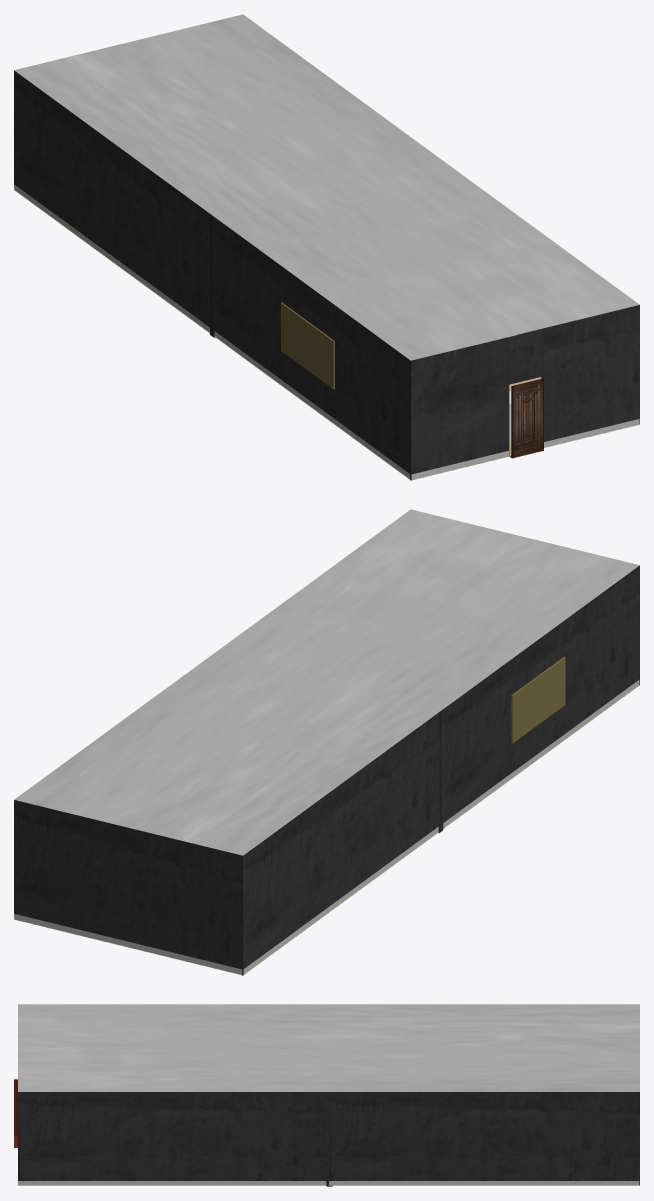
The picture shows the model from 3 angles, top to bottom: view 1: azimuth 30°, elevation 25°; view 2: azimuth 150°, elevation 25°; view 3: azimuth 270°, elevation 25°; orthographic projection. The views are drawn at different scales.
Parts seen in each view (by area): view 1: Floor.001, wall4, wall2.001, wall2, Cube.010, Door, Floor; view 2: Floor.001, wall3, wall2.001, wall2, Cube.010, Floor; view 3: Floor.001, wall1.001, wall1, wall4.001, DoorFrame.
Part boxes in pixels (x1,y1,x2,y2): Floor.001: (14,14,639,360); wall4: (410,305,639,480); wall2.001: (14,70,209,332); wall2: (212,215,411,480); Cube.010: (281,302,334,389); Door: (511,378,543,457); Floor: (14,190,639,480); Floor.001: (14,509,639,855); wall3: (14,800,243,975); wall2.001: (242,712,439,975); wall2: (441,565,639,827); Cube.010: (511,656,565,743); Floor: (14,685,639,975); Floor.001: (18,1004,639,1091); wall1.001: (329,1092,639,1185); wall1: (18,1092,326,1185); wall4.001: (326,1092,332,1186); DoorFrame: (14,1079,17,1147).
Size of the model in its own units: 1010 by 546 by 3020.
